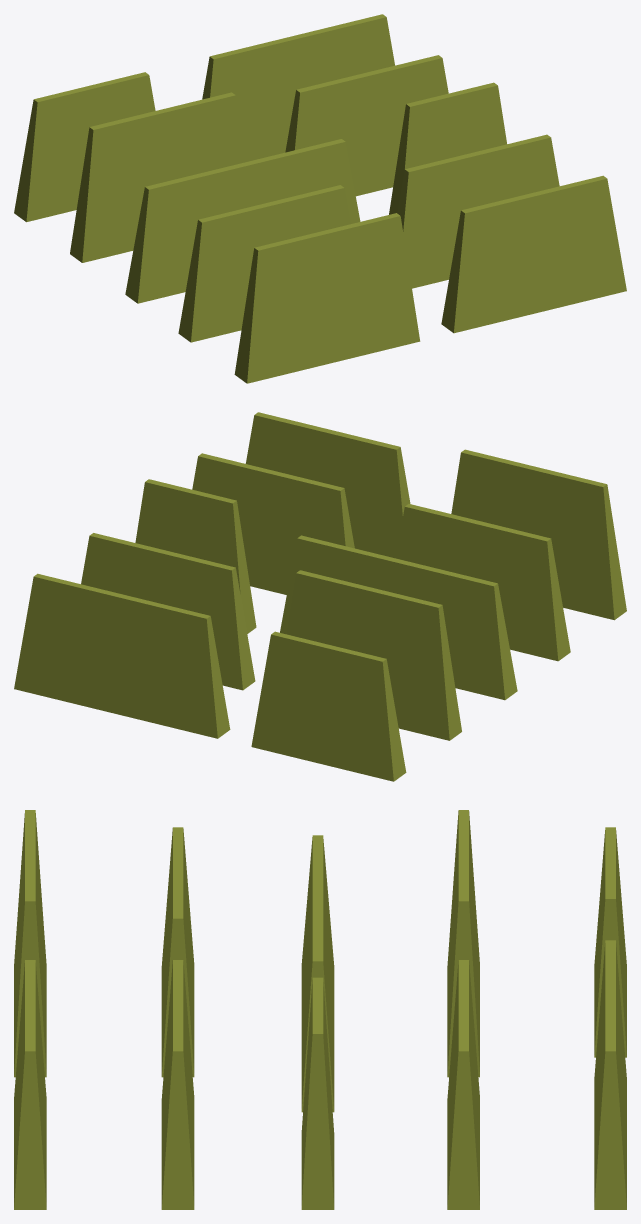
Rendered from farm_plants_1_yellow_mat.fbx.
3 views of the same model, one above another, from view 1: azimuth 30°, elevation 25°; view 2: azimuth 150°, elevation 25°; view 3: azimuth 270°, elevation 25° (orthographic). The views are drawn at different scales.
Visible parts, largest first — view 1: farm_plants_1_yellow_mat; view 2: farm_plants_1_yellow_mat; view 3: farm_plants_1_yellow_mat.
Part boxes in pixels (x1,y1,x2,y2): farm_plants_1_yellow_mat: [14, 14, 626, 383]; farm_plants_1_yellow_mat: [14, 412, 626, 781]; farm_plants_1_yellow_mat: [14, 810, 626, 1209].
Size of the model in its own units: 186 by 59.04 by 198.
